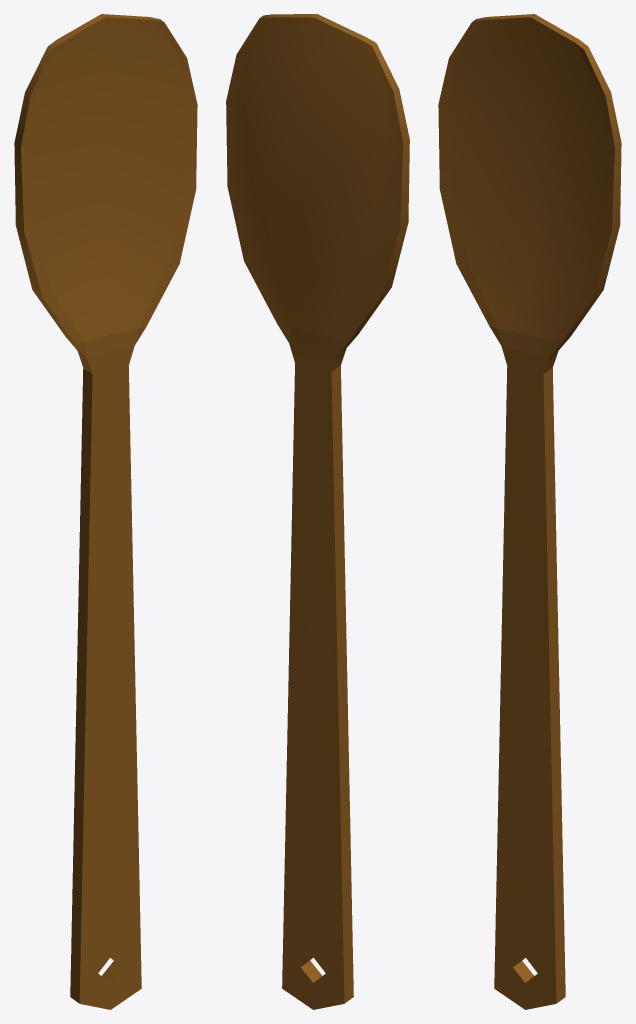
The model's file is sutil_lonjong.fbx.
3 views of the same model, side by side, from view 1: azimuth 30°, elevation 25°; view 2: azimuth 150°, elevation 25°; view 3: azimuth 330°, elevation 25° (orthographic).
Visible parts, largest first — view 1: sutil lonjong; view 2: sutil lonjong; view 3: sutil lonjong.
Boxes of the visible parts, box(x1,y1,x2,y2) form: sutil lonjong: box(14, 14, 197, 1009); sutil lonjong: box(226, 14, 409, 1009); sutil lonjong: box(438, 14, 621, 1009).
Bounding box in the file's own units: 22.6 × 121 × 3.73.
